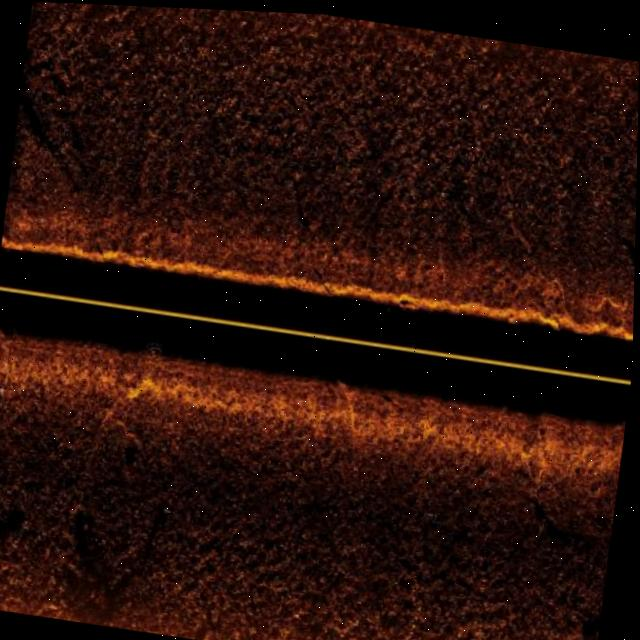other: (397, 280, 428, 306)
